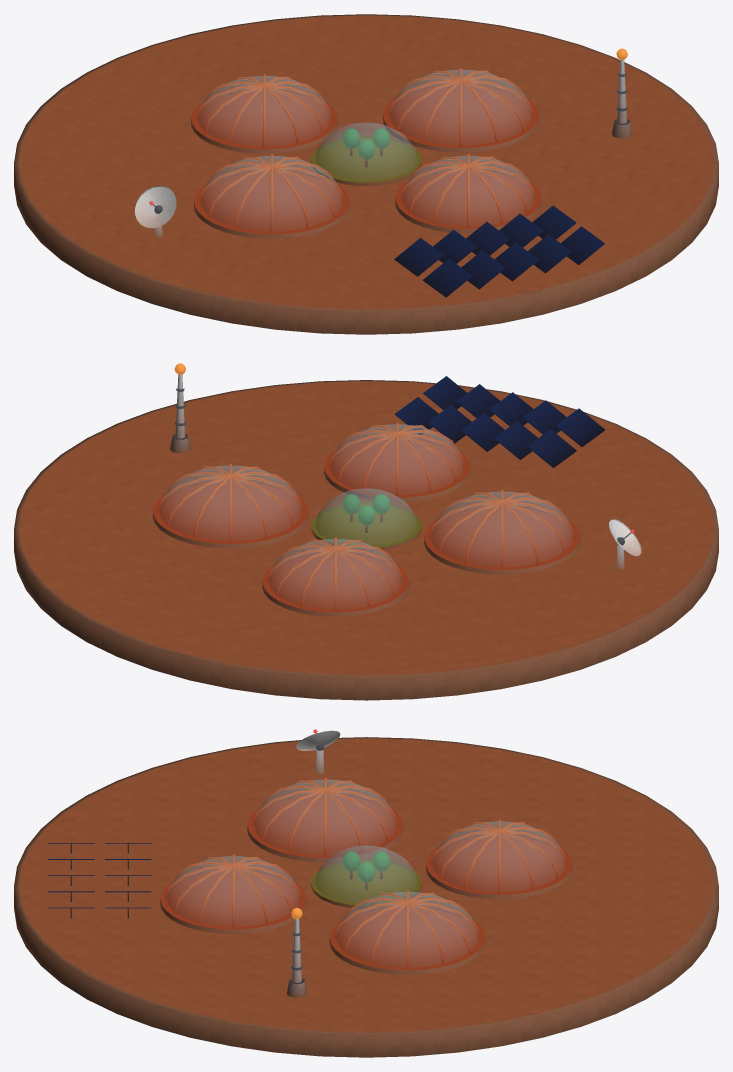
The model's file is mars_ridge_village.glb.
The picture shows the model from 3 angles, top to bottom: view 1: azimuth 30°, elevation 25°; view 2: azimuth 150°, elevation 25°; view 3: azimuth 270°, elevation 25°; orthographic projection.
Visible parts, largest first — view 1: mars_ridge_village_LOD0; view 2: mars_ridge_village_LOD0; view 3: mars_ridge_village_LOD0.
Part boxes in pixels (left/top/right/bottom): mars_ridge_village_LOD0: left=14, top=14, right=718, bottom=334; mars_ridge_village_LOD0: left=14, top=363, right=718, bottom=700; mars_ridge_village_LOD0: left=14, top=729, right=718, bottom=1057.
Size of what is drawn, in the model's own units: 60.8 by 10.3 by 60.8.
3 materials, 2 textured.
